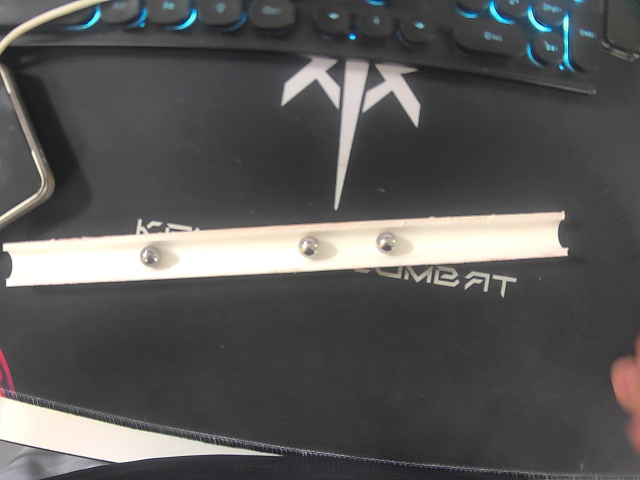steelball: (296, 235, 322, 258), (374, 230, 397, 254), (139, 245, 162, 268)
